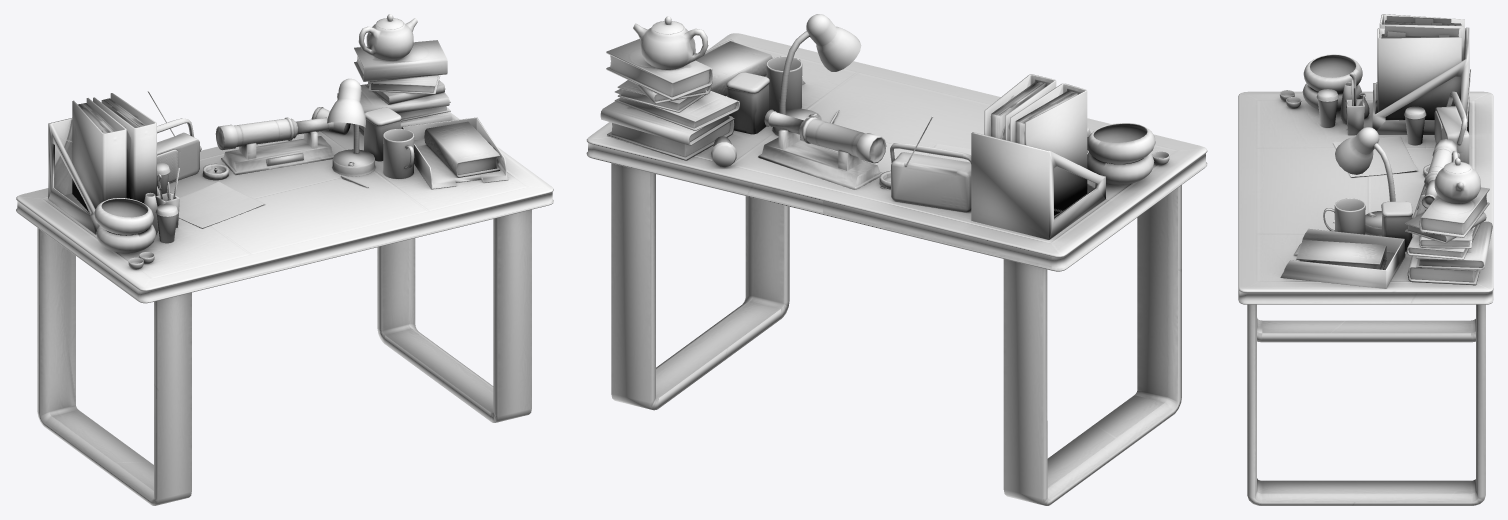
Rendered from desk.glb.
3 renders of one model, left to right at view 1: azimuth 30°, elevation 25°; view 2: azimuth 150°, elevation 25°; view 3: azimuth 270°, elevation 25°, orthographic. The views are drawn at different scales.
Visible parts, largest first — view 1: map; view 2: map; view 3: map.
Part boxes in pixels (box(x1,y1,x2,y2)): map: box(16, 14, 553, 505); map: box(586, 14, 1207, 505); map: box(1238, 14, 1493, 505).
Size of the model in its own units: 3.92 by 3.03 by 2.12.
Materials: 2 (1 with a texture image).
